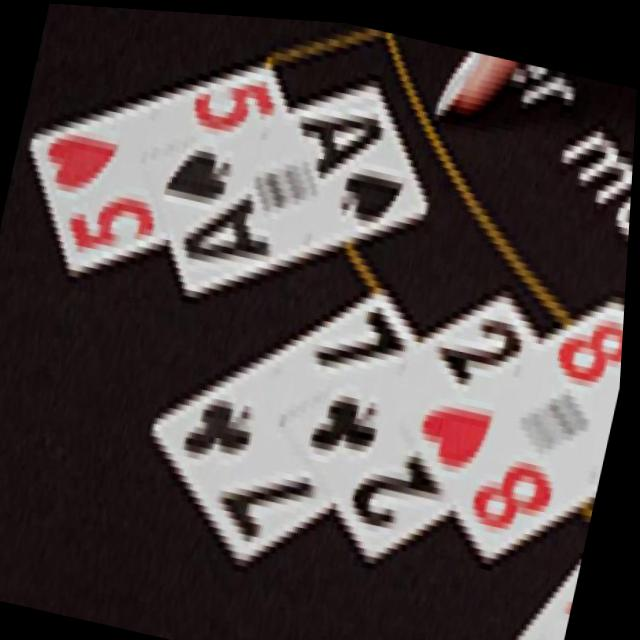Card-2: (293, 284, 544, 557)
Card-5: (33, 58, 288, 275)
Card-7: (157, 282, 424, 559)
Card-8: (417, 287, 628, 551)
Card-A: (151, 74, 430, 289)
